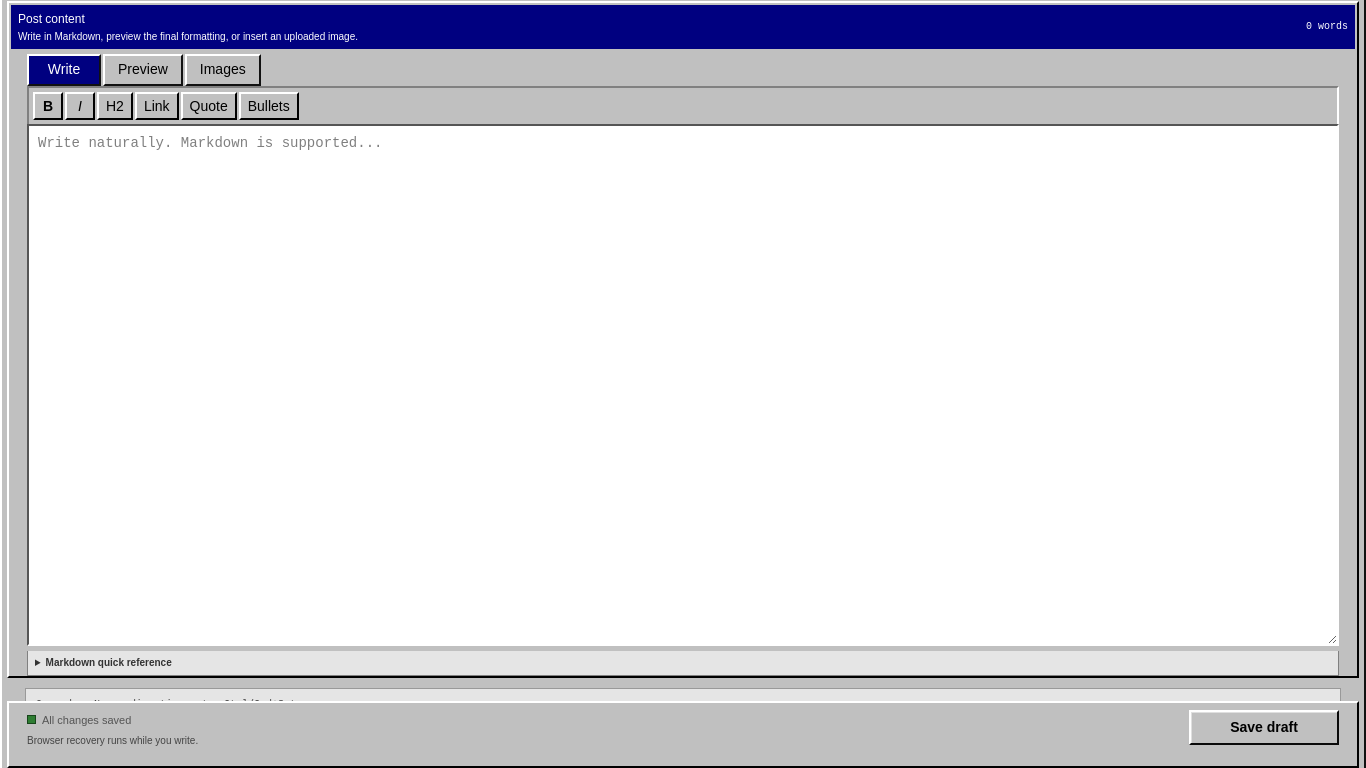
it: PostEditor autosave › formats selected writing from the Markdown toolbar
(page scrolled)
In the text box named "Post body": (683, 384) [27, 124, 1339, 646], type "A useful sentence"
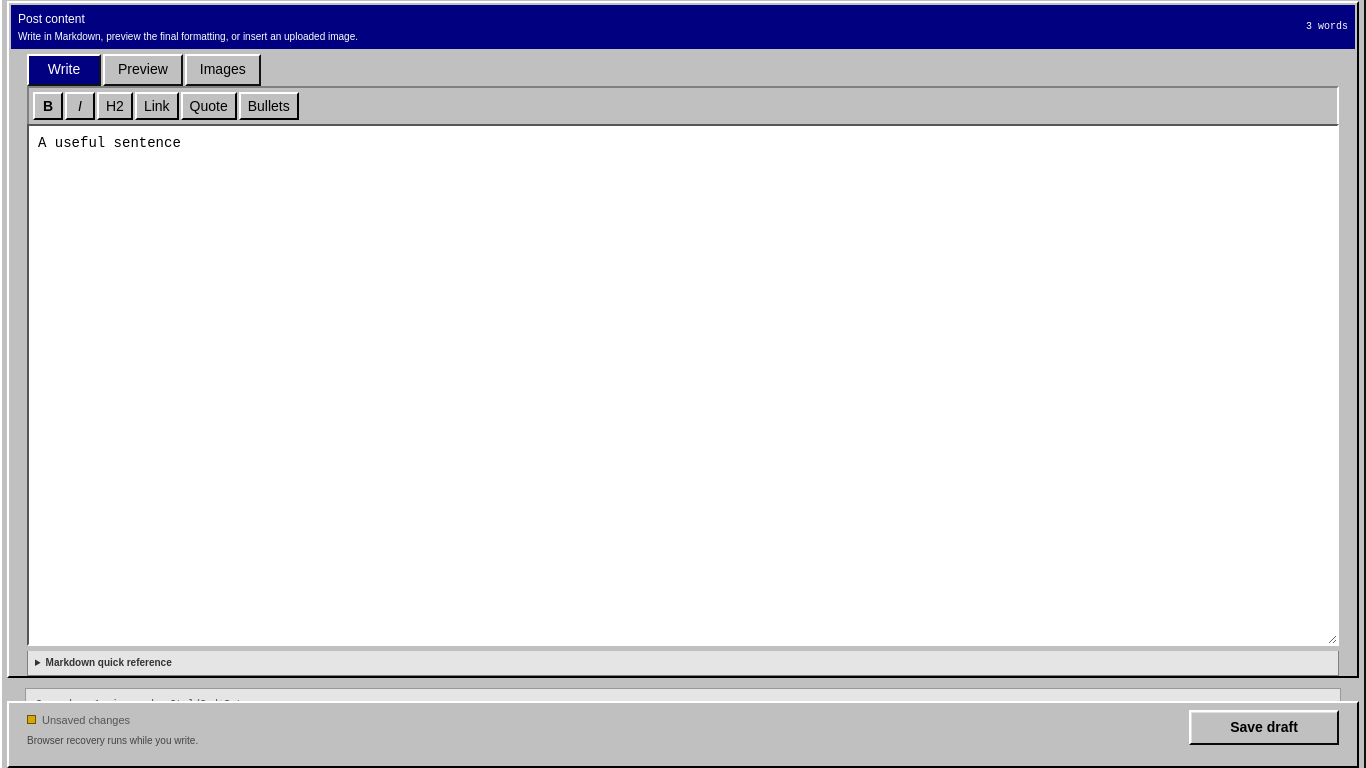
Click the button titled "Bold": (48, 106) [33, 92, 63, 120]
Wait 20 ms
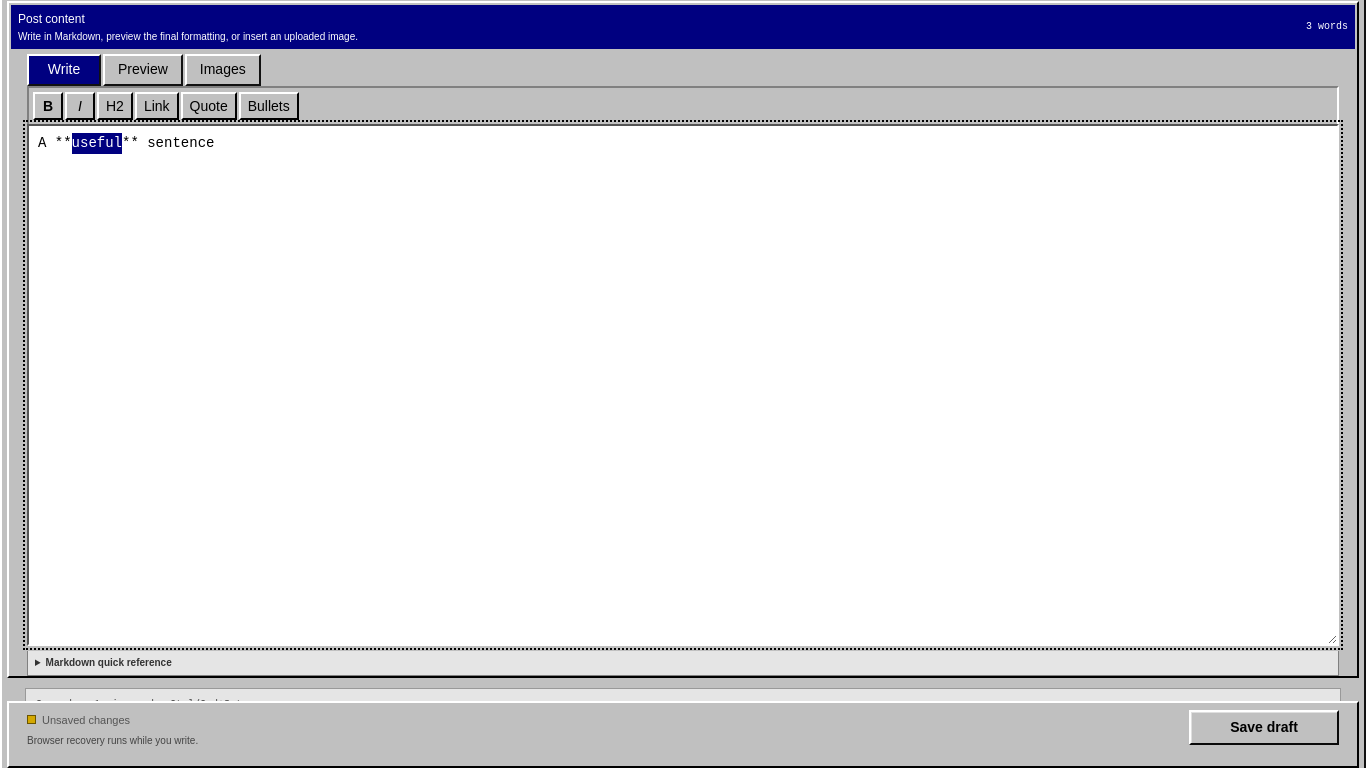
Expected: the text box named "Post body" holds "A **useful** sentence"
